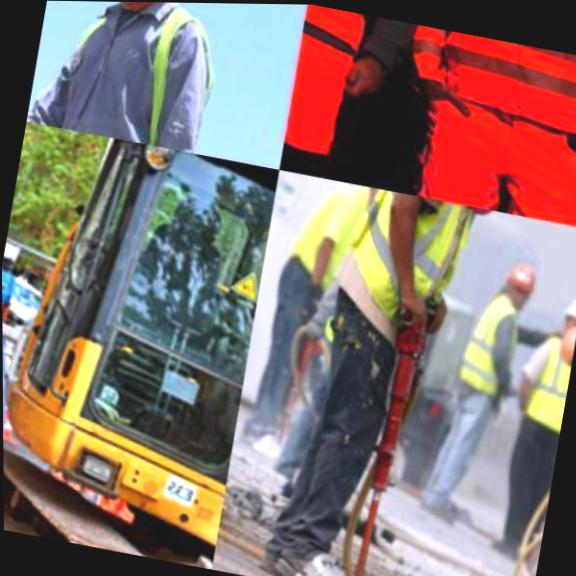safety_vest: (25, 0, 264, 160), (360, 17, 576, 183), (311, 181, 492, 362), (446, 291, 538, 415), (504, 322, 576, 446)
